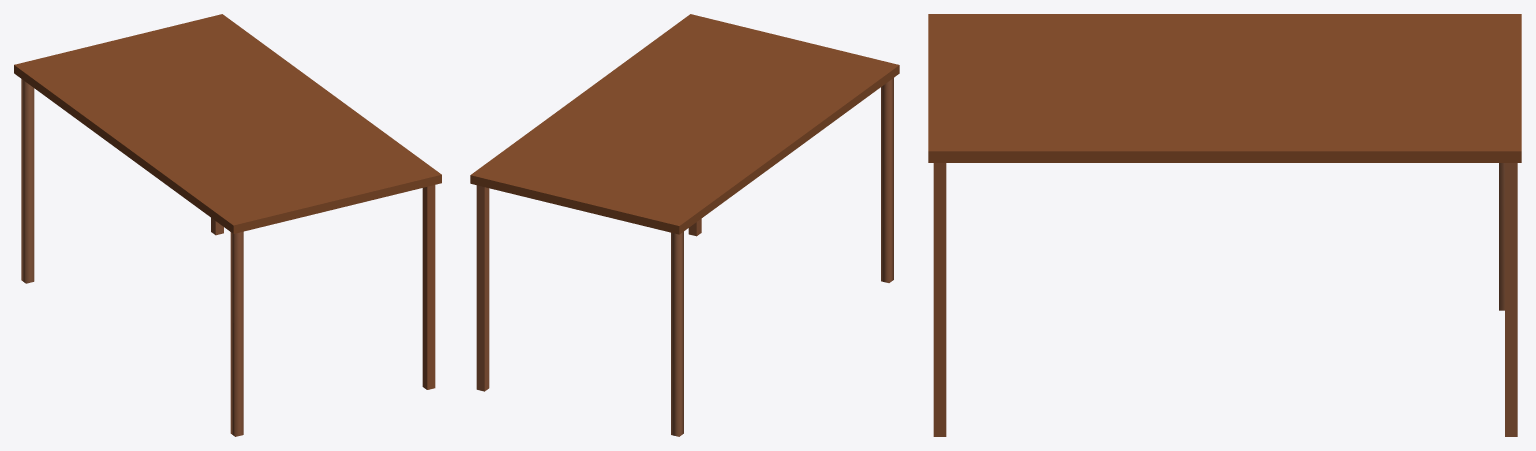
File: Table.glb
3 views of the same model, side by side, from view 1: azimuth 30°, elevation 25°; view 2: azimuth 150°, elevation 25°; view 3: azimuth 270°, elevation 25° (orthographic). The views are drawn at different scales.
Parts seen in each view (by area): view 1: Cube, Cube.002, Cube.001, Cube.003; view 2: Cube, Cube.004, Cube.003, Cube.002; view 3: Cube, Cube.001, Cube.004, Cube.003.
Part boxes in pixels (x1,y1,x2,y2): Cube: (14,14,441,233); Cube.002: (230,231,243,436); Cube.001: (422,185,435,389); Cube.003: (21,79,34,283); Cube: (470,14,899,234); Cube.004: (476,185,489,391); Cube.003: (671,231,683,436); Cube.002: (881,78,893,282); Cube: (928,14,1521,162); Cube.001: (933,163,946,436); Cube.004: (1505,163,1517,436); Cube.003: (1499,163,1504,310).
Size of the model in its own units: 2 by 1.96 by 3.65.
